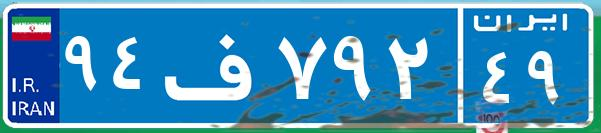2: (385, 28, 445, 110)
4: (475, 38, 525, 113), (110, 28, 158, 105)
7: (273, 28, 330, 110)
9: (330, 28, 385, 110), (57, 26, 110, 107), (525, 38, 570, 115)
ف: (158, 15, 273, 115)
